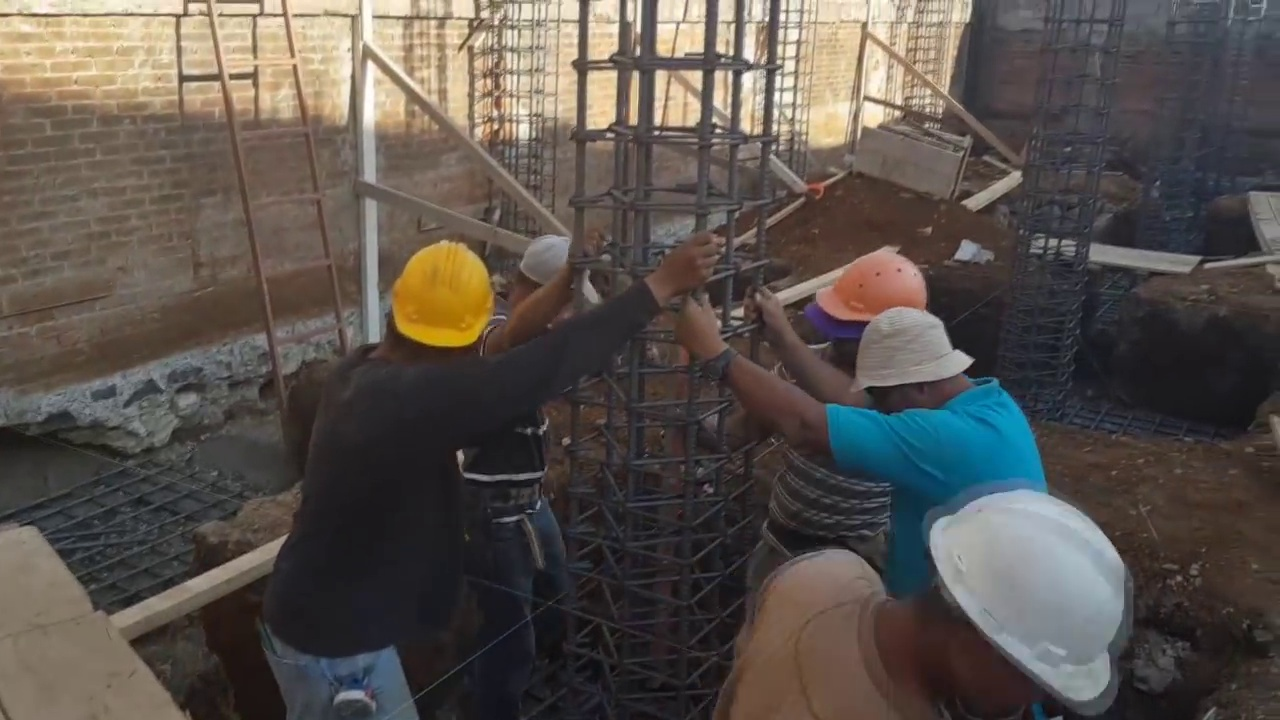helmet: (928, 476, 1147, 694), (374, 244, 493, 353), (822, 250, 933, 341)
helmet-off: (839, 310, 978, 410), (505, 233, 599, 319)
helmet-on: (860, 476, 1144, 719), (357, 242, 495, 368), (816, 242, 928, 369)
person: (256, 214, 671, 715), (701, 476, 1155, 720), (680, 294, 1056, 584), (463, 224, 601, 697), (749, 244, 932, 577)
